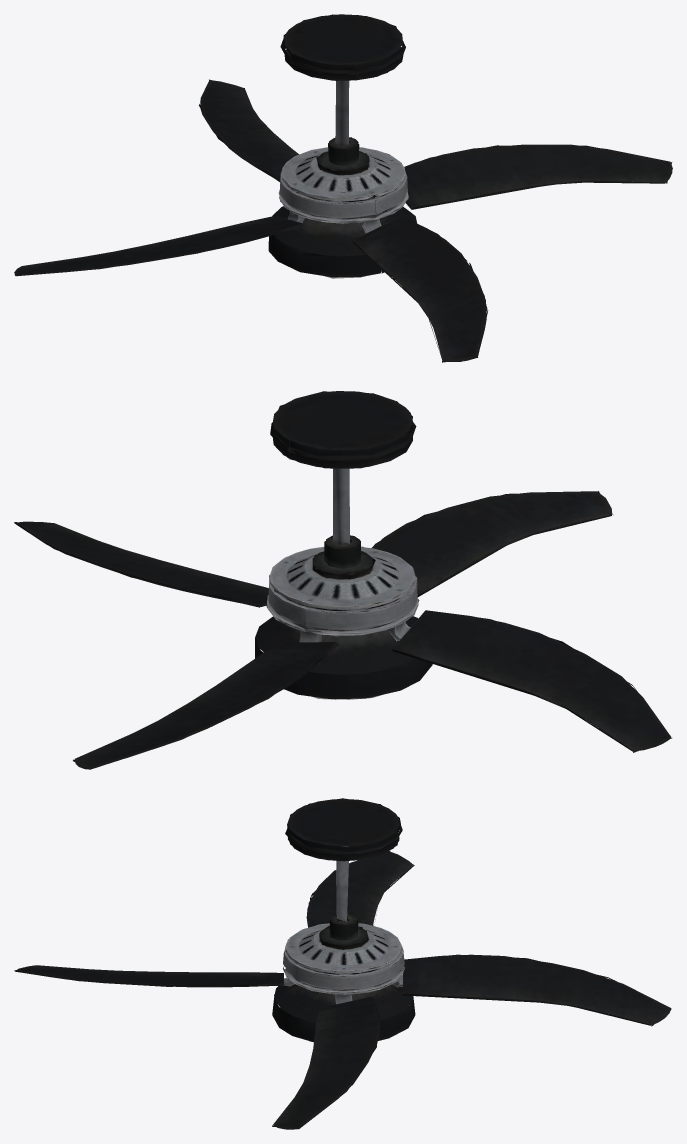
Rendered from ceiling_fan.glb.
3 views of the same model, one above another, from view 1: azimuth 30°, elevation 25°; view 2: azimuth 150°, elevation 25°; view 3: azimuth 270°, elevation 25° (orthographic). The views are drawn at different scales.
Parts seen in each view (by area): view 1: ceiling_fan; view 2: ceiling_fan; view 3: ceiling_fan.
Boxes of the visible parts, x1,y1,x2,y2 form: ceiling_fan: [14, 14, 672, 362]; ceiling_fan: [14, 391, 671, 769]; ceiling_fan: [14, 798, 671, 1129].
Size of the model in its own units: 1.47 by 0.515 by 1.47.
Materials: 1 (1 with a texture image).
